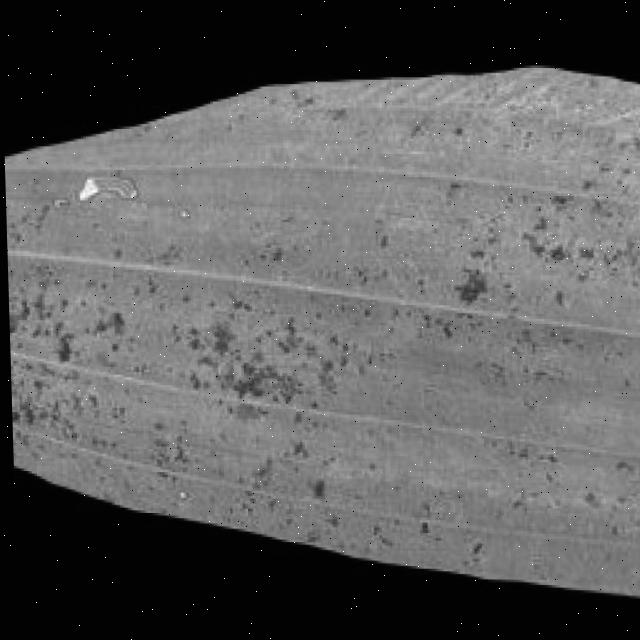mite: (468, 535, 484, 556)
spots: (1, 59, 640, 603)
